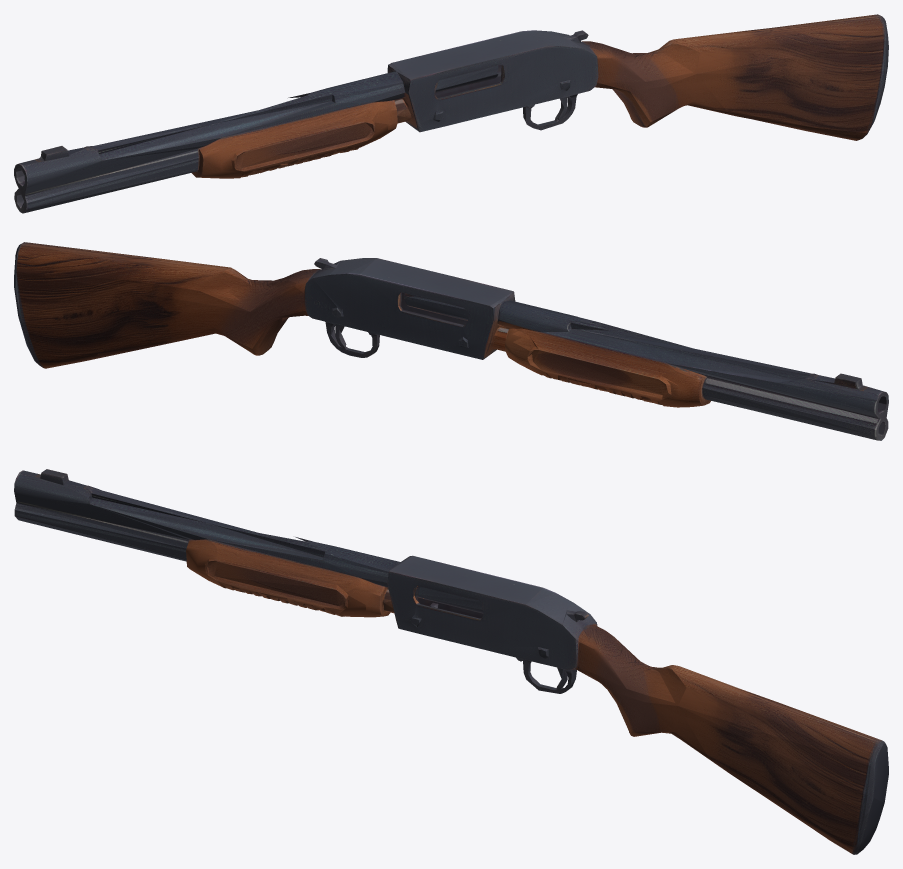
3 renders of one model, top to bottom at view 1: azimuth 30°, elevation 25°; view 2: azimuth 150°, elevation 25°; view 3: azimuth 330°, elevation 25°, orthographic.
Bounding box in the file's own units: 1.9 × 0.3895 × 0.1118.
1 material, 1 textured.
